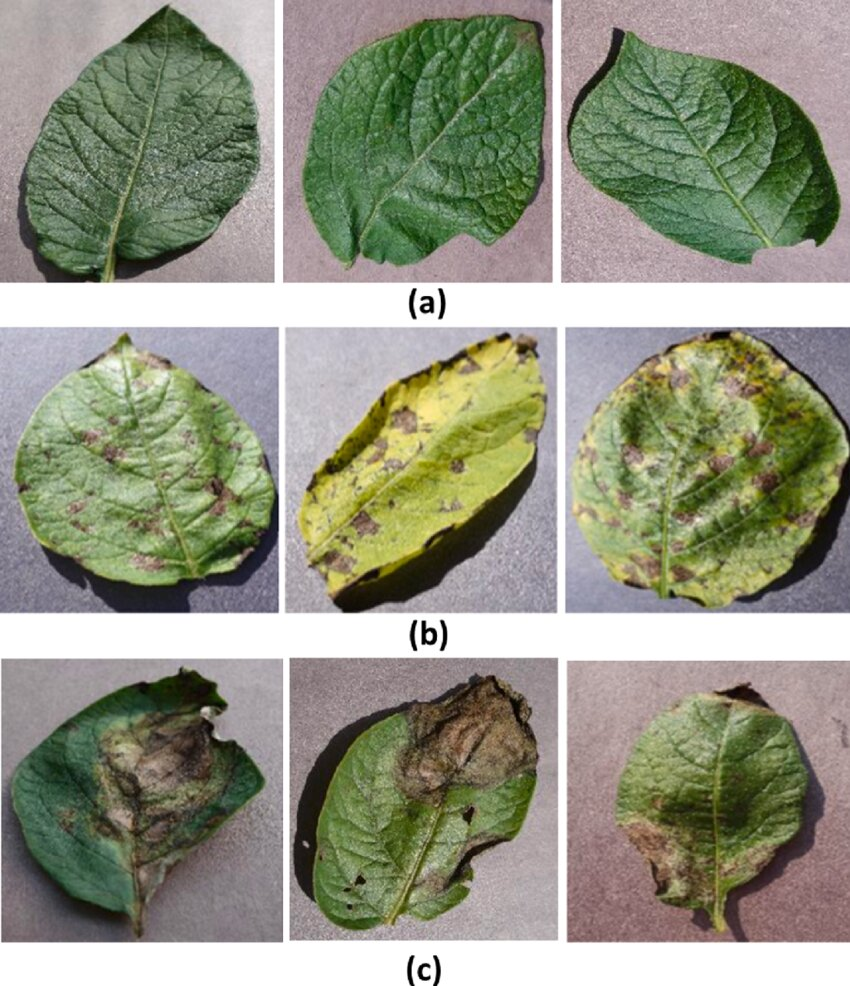potato_leaf: (572, 331, 845, 599), (12, 329, 275, 589), (21, 2, 266, 279), (11, 664, 268, 928), (300, 329, 554, 594), (566, 28, 842, 268), (306, 665, 547, 931), (302, 14, 547, 268), (615, 674, 821, 934)
